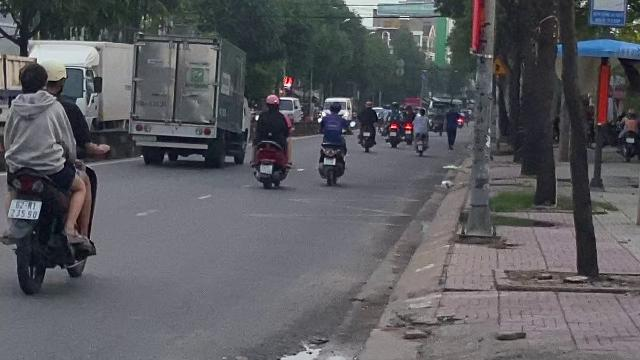helmet: (41, 60, 68, 96)
licenseplate: (10, 200, 40, 219)
motorcyclist: (0, 59, 102, 295)
nohelmet: (18, 62, 48, 94)
